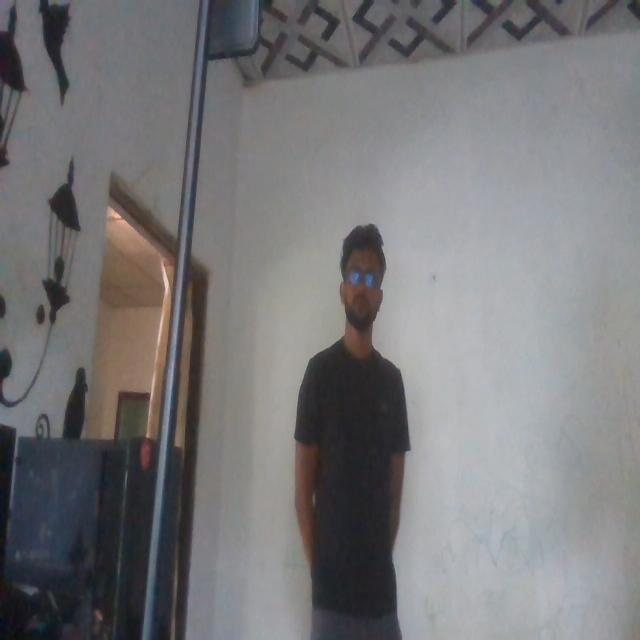Person: (305, 220, 417, 640)
